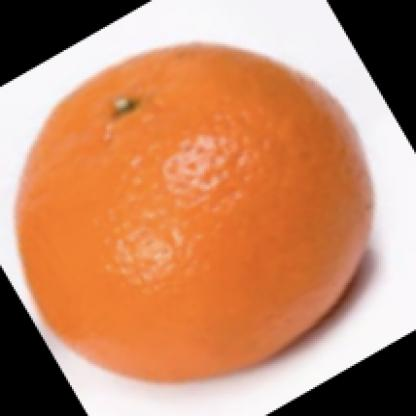orange: (17, 40, 372, 379)
